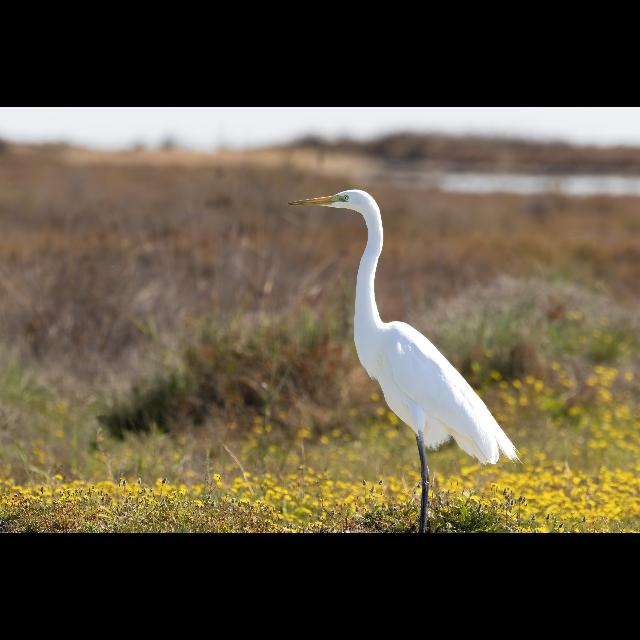egret: (290, 188, 518, 534)
